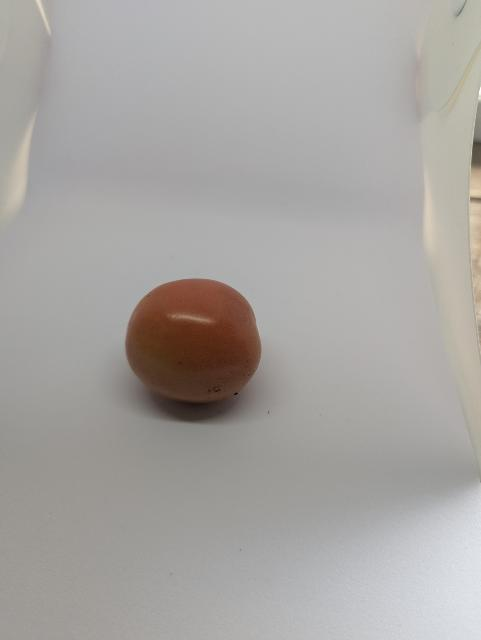red: (119, 257, 274, 427)
